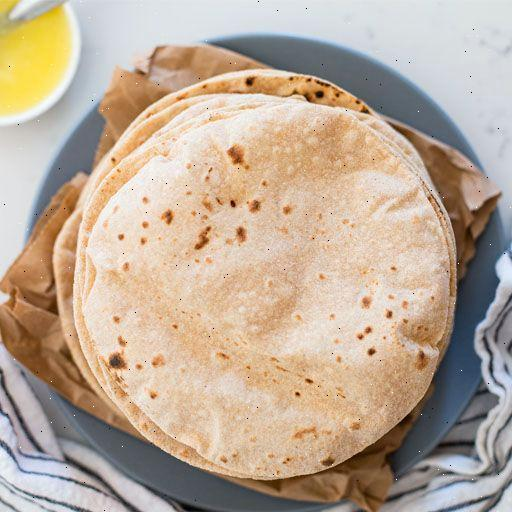roti phulka: (56, 62, 486, 490)
